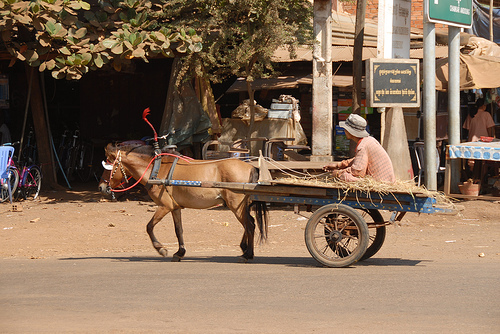horse: (95, 139, 270, 264)
